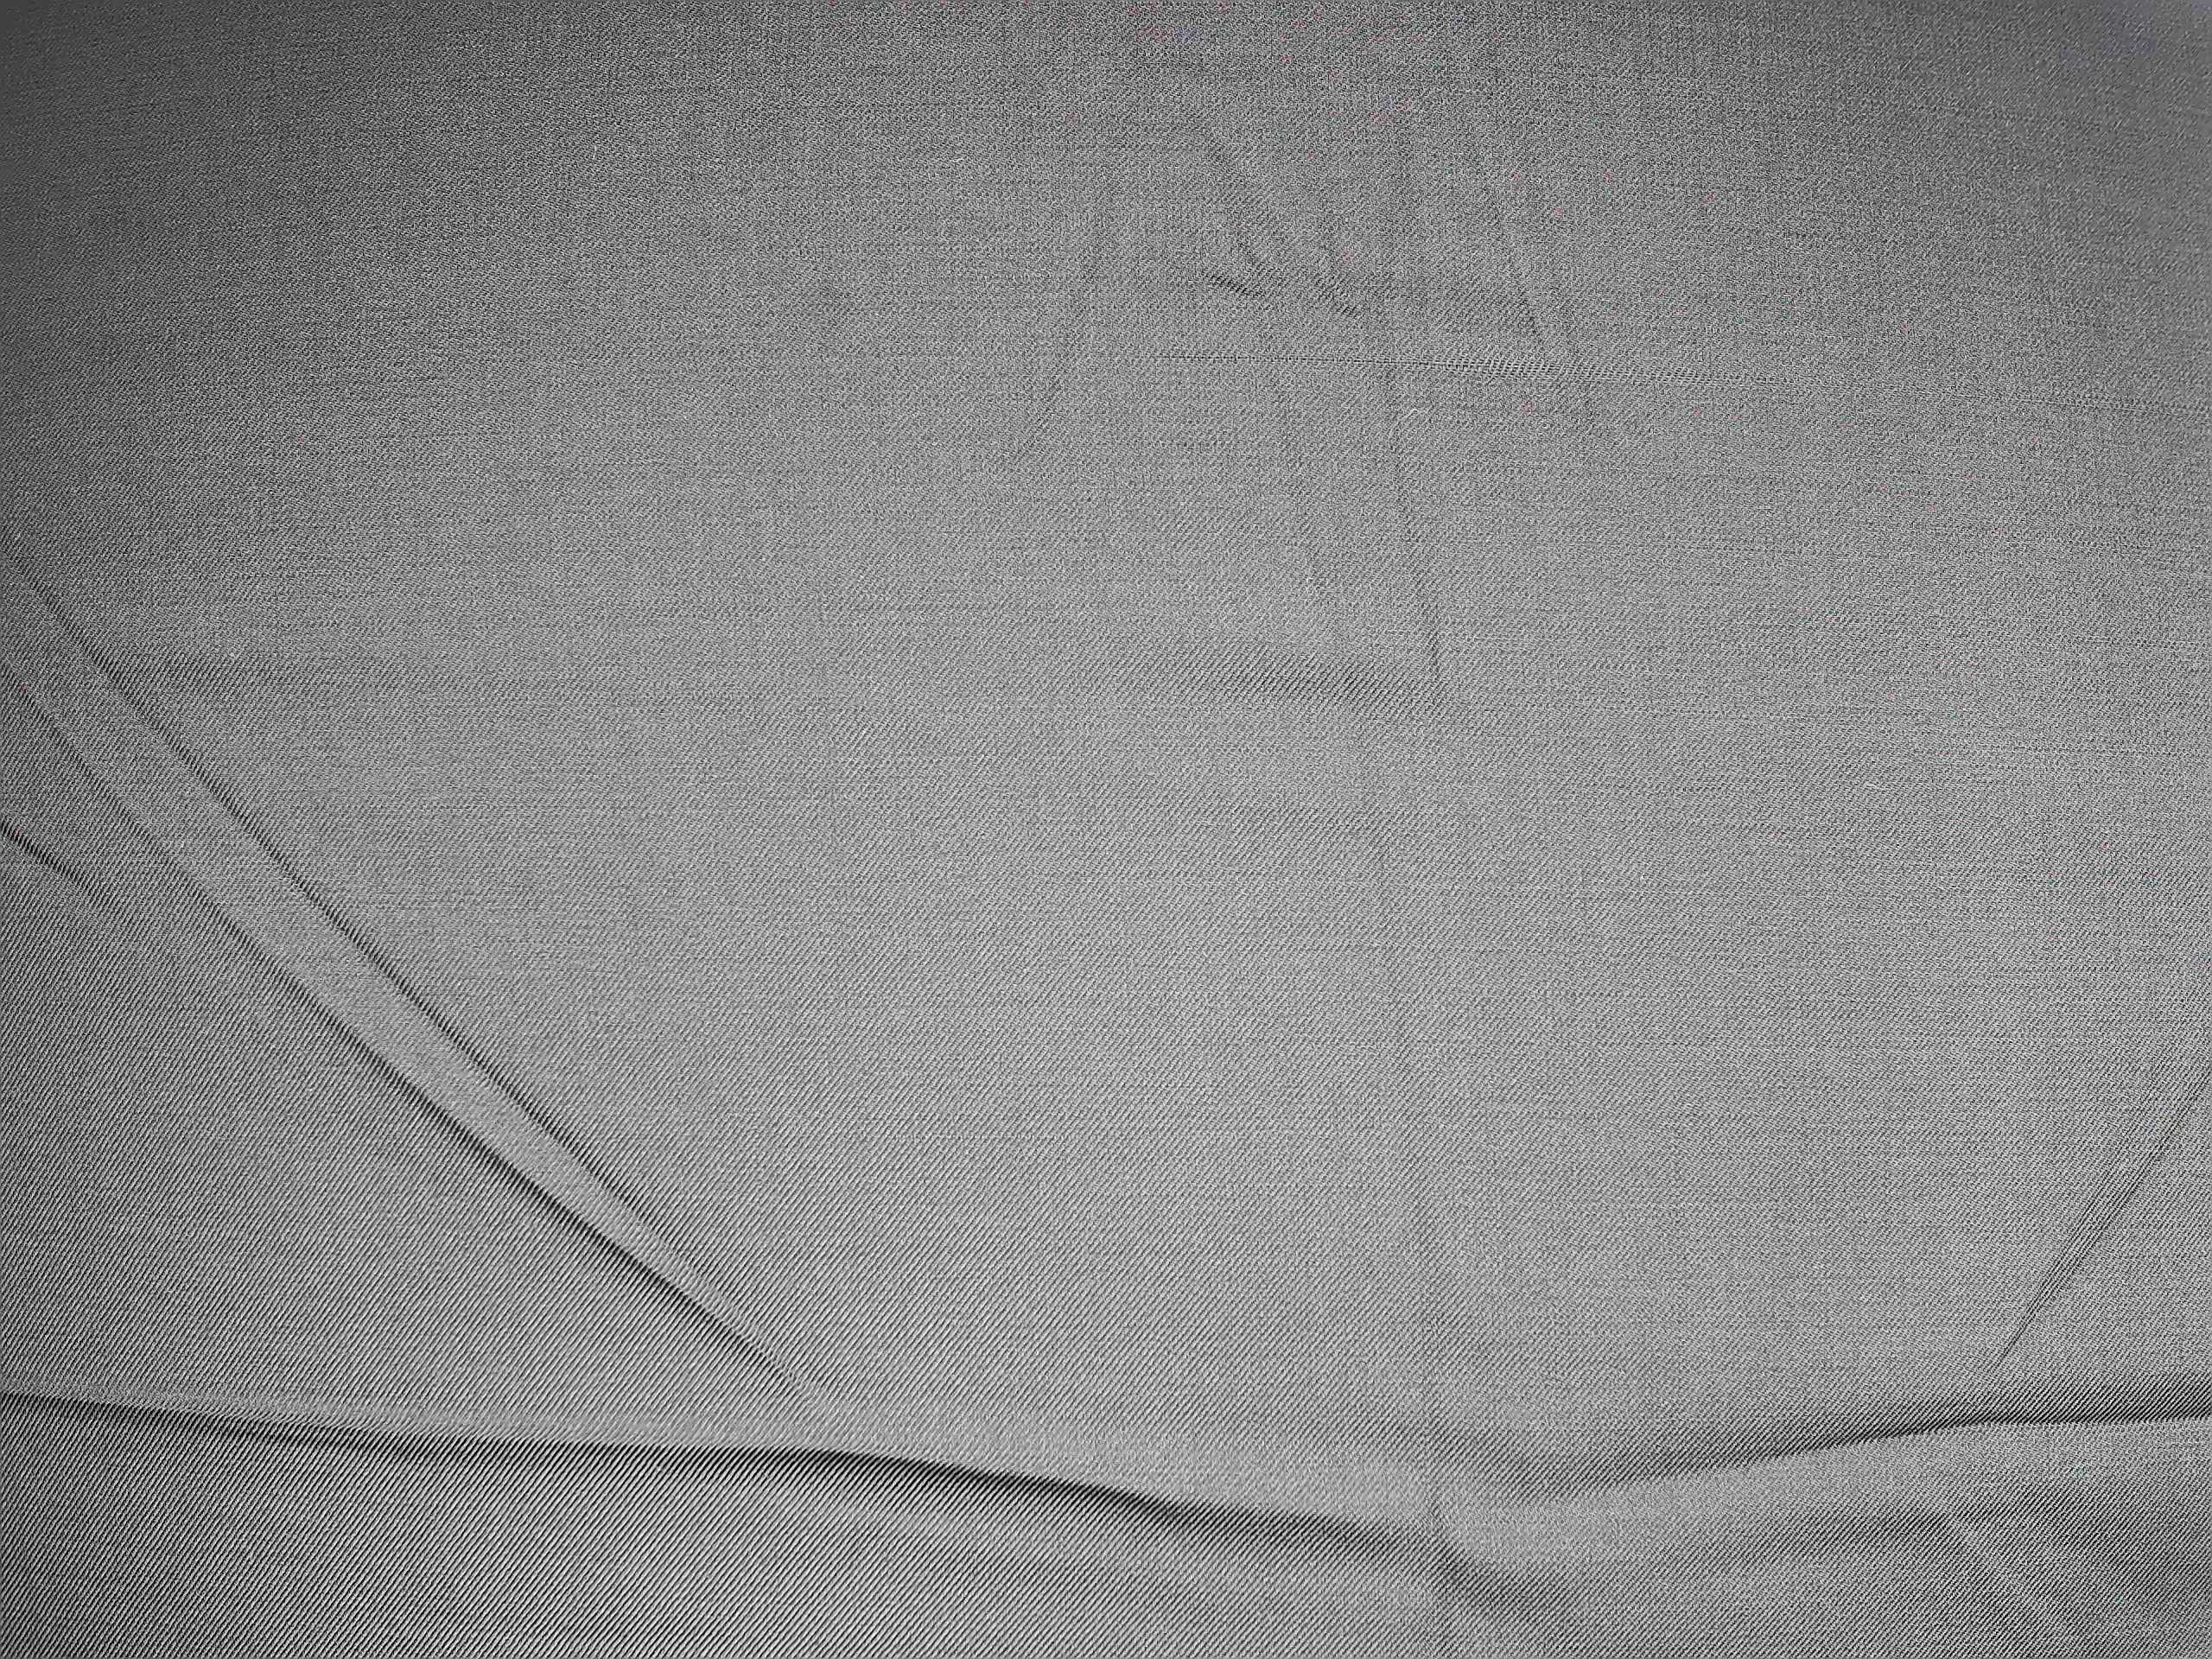thin-spinning: (887, 333, 1848, 389)
